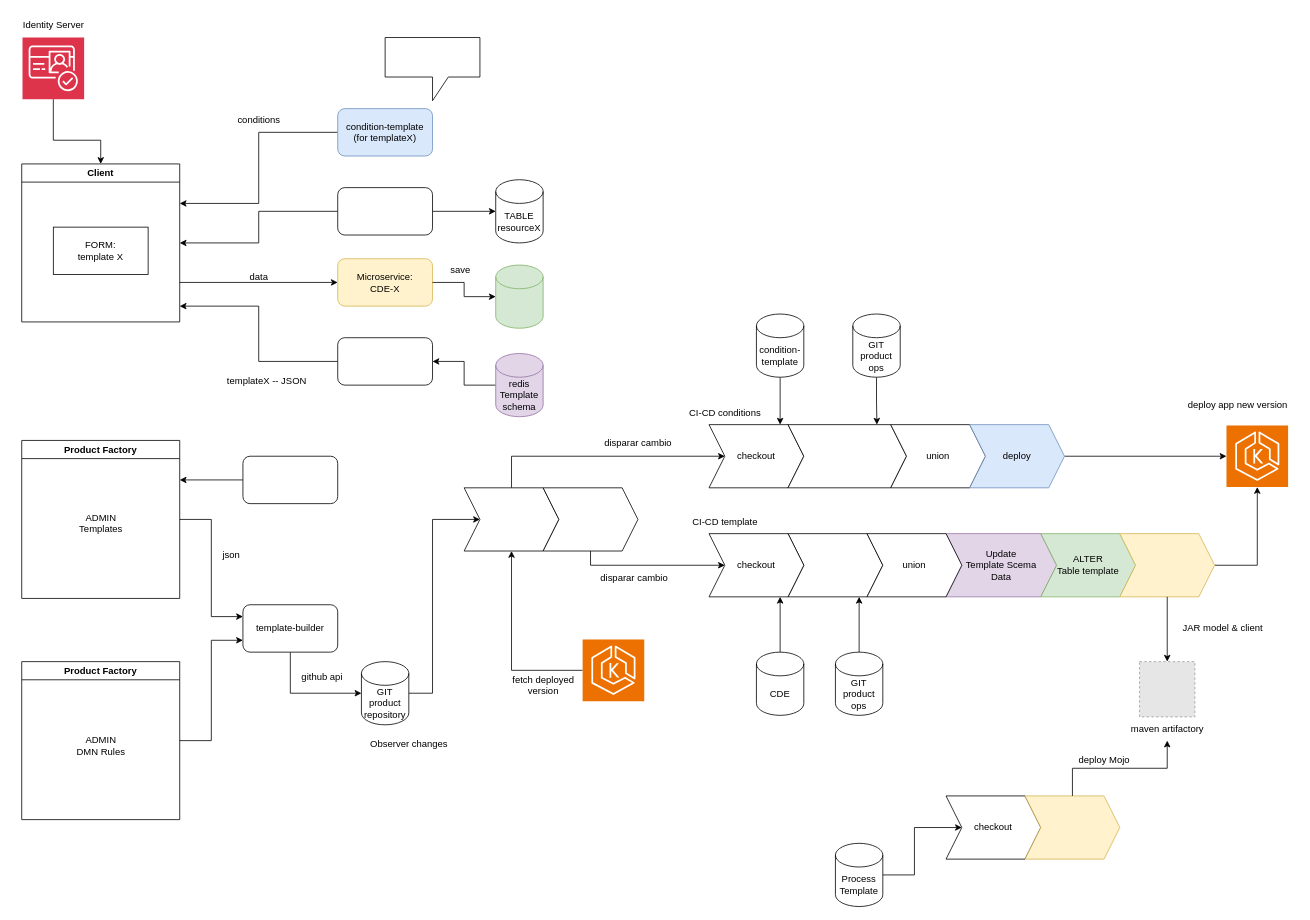
This 1310x920 diagram has some shape labels left out. Grey dashed boxes stand in for pictures. Each missing label, with the centre of its shape:
"contiene todos los DMN del templateX" goes at pixel 432 69.
"fetch DMN modificados" goes at pixel 847 456.
"fetch JSON modificados" goes at pixel 835 565.
"install deploy" goes at pixel 1167 565.
"mvn deploy" goes at pixel 1072 827.
"resource (admin)" goes at pixel 290 479.
"resource-X" goes at pixel 385 211.
"Search changes conditions" goes at pixel 511 519.
"Search changes templates" goes at pixel 590 519.
"TABLE: CDE-X" goes at pixel 519 296.
"template-" goes at pixel 385 361.
